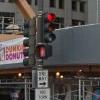Traffic light: (18, 10, 52, 71)
